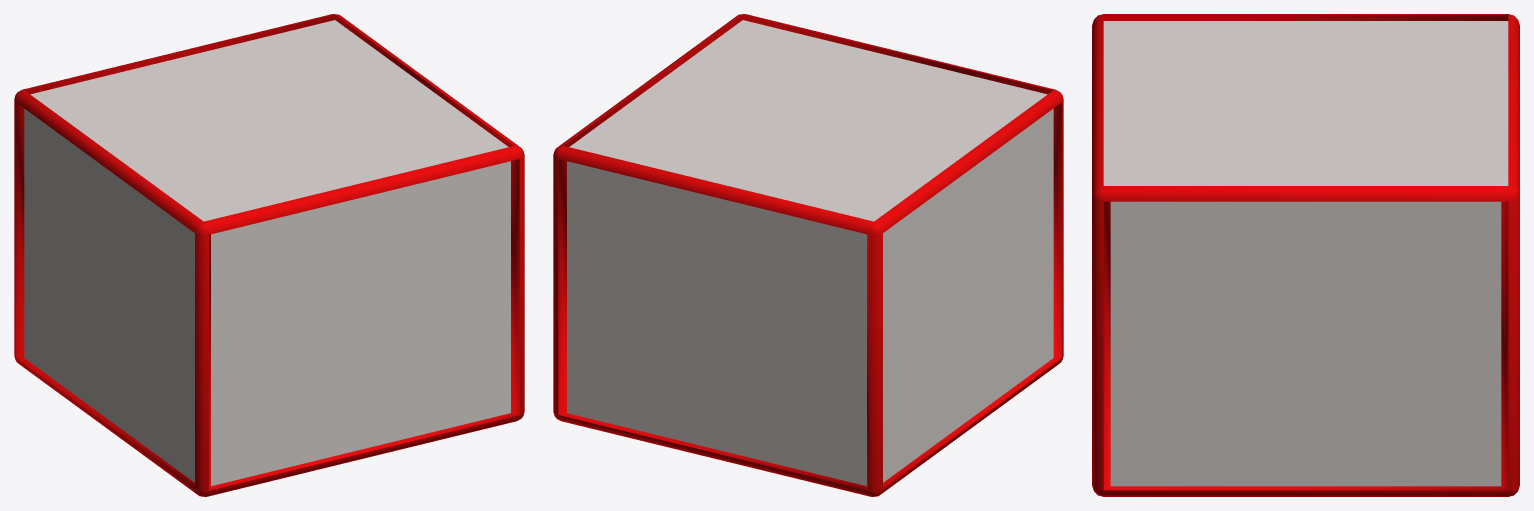
3 renders of one model, left to right at view 1: azimuth 30°, elevation 25°; view 2: azimuth 150°, elevation 25°; view 3: azimuth 270°, elevation 25°, orthographic. The views are drawn at different scales.
Visible parts, largest first — view 1: Cube_0.8; view 2: Cube_0.8; view 3: Cube_0.8.
Boxes of the visible parts, x1,y1,x2,y2 form: Cube_0.8: (14, 14, 524, 496); Cube_0.8: (553, 14, 1063, 496); Cube_0.8: (1092, 14, 1519, 496).
Bounding box in the file's own units: 100 × 79.92 × 100.
